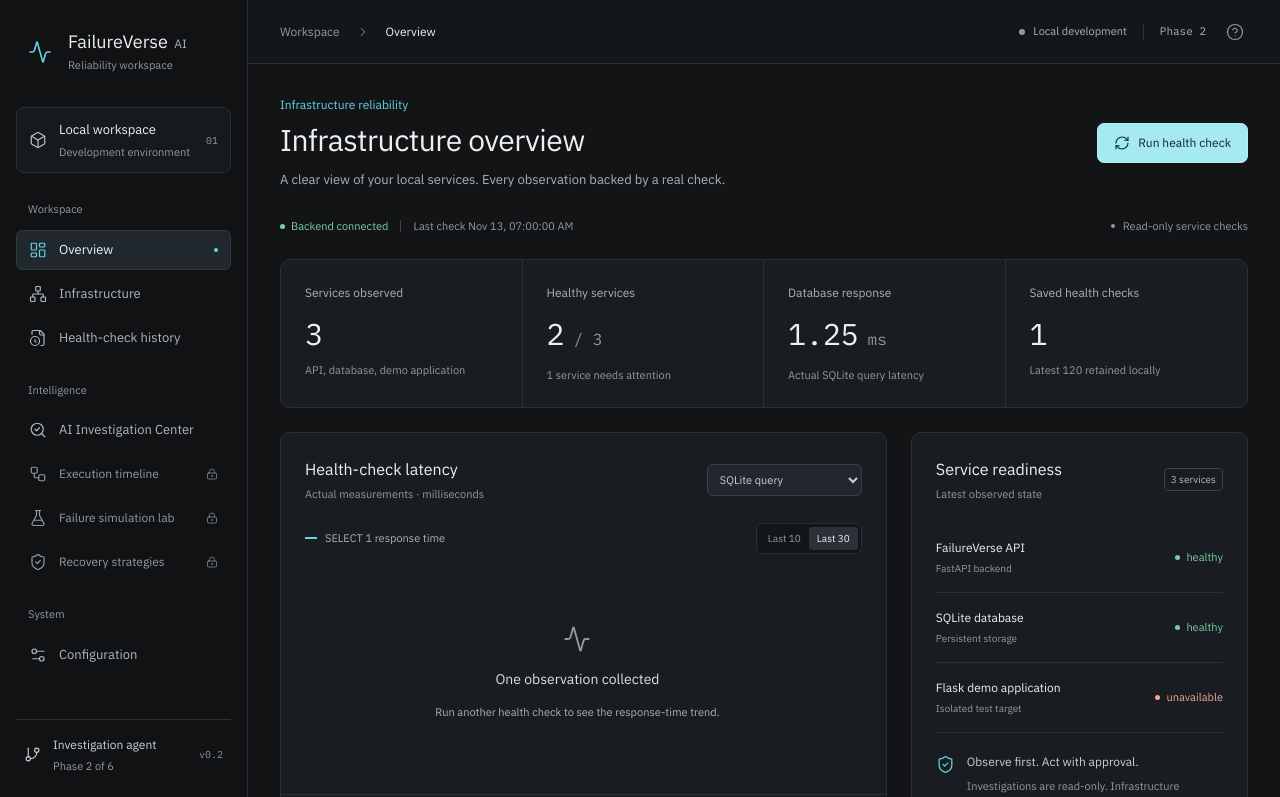
connected workspace › expands persisted observations and filters history
Expected: the text "Backend connected" is shown, [280,218,388,234]
Click the button "Health-check history". click: click(124, 338)
box: [16,318,231,358]
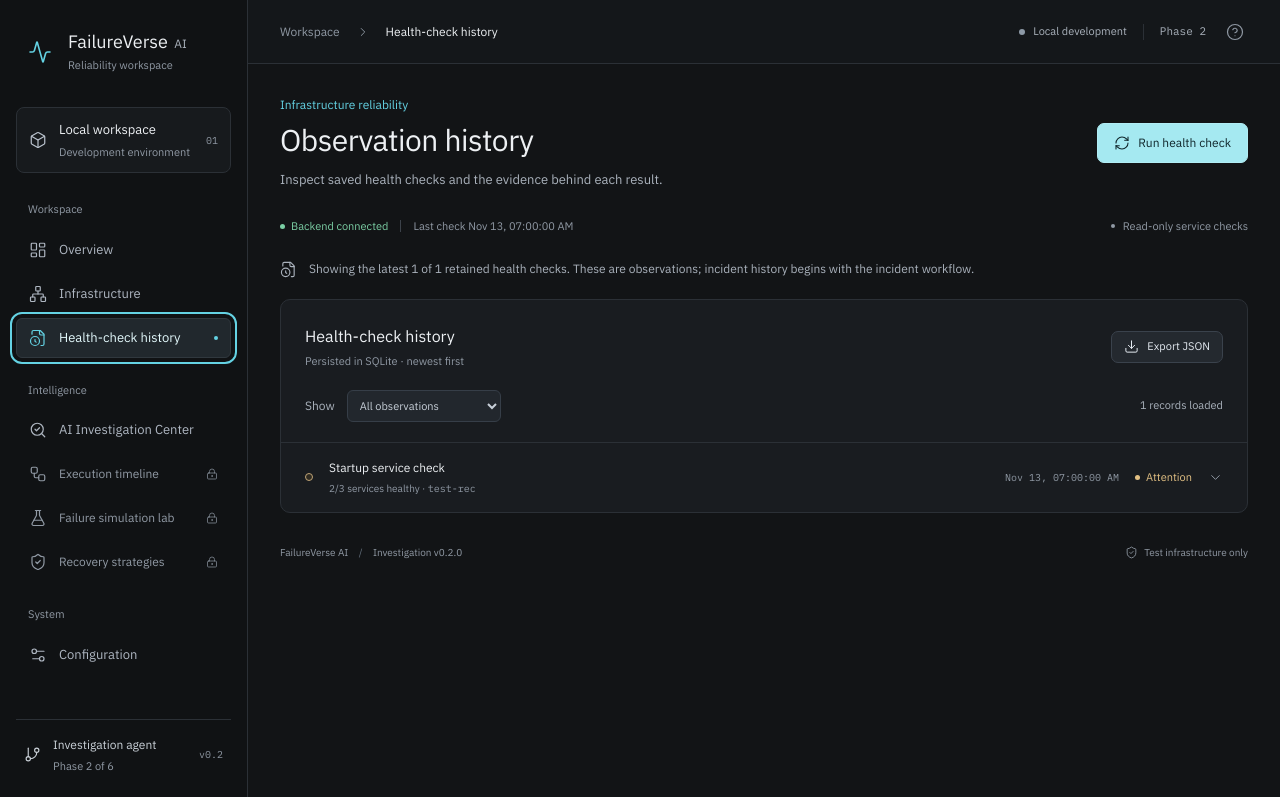
Click the button "Startup service check". click: click(387, 467)
box: [281,442,1247,512]
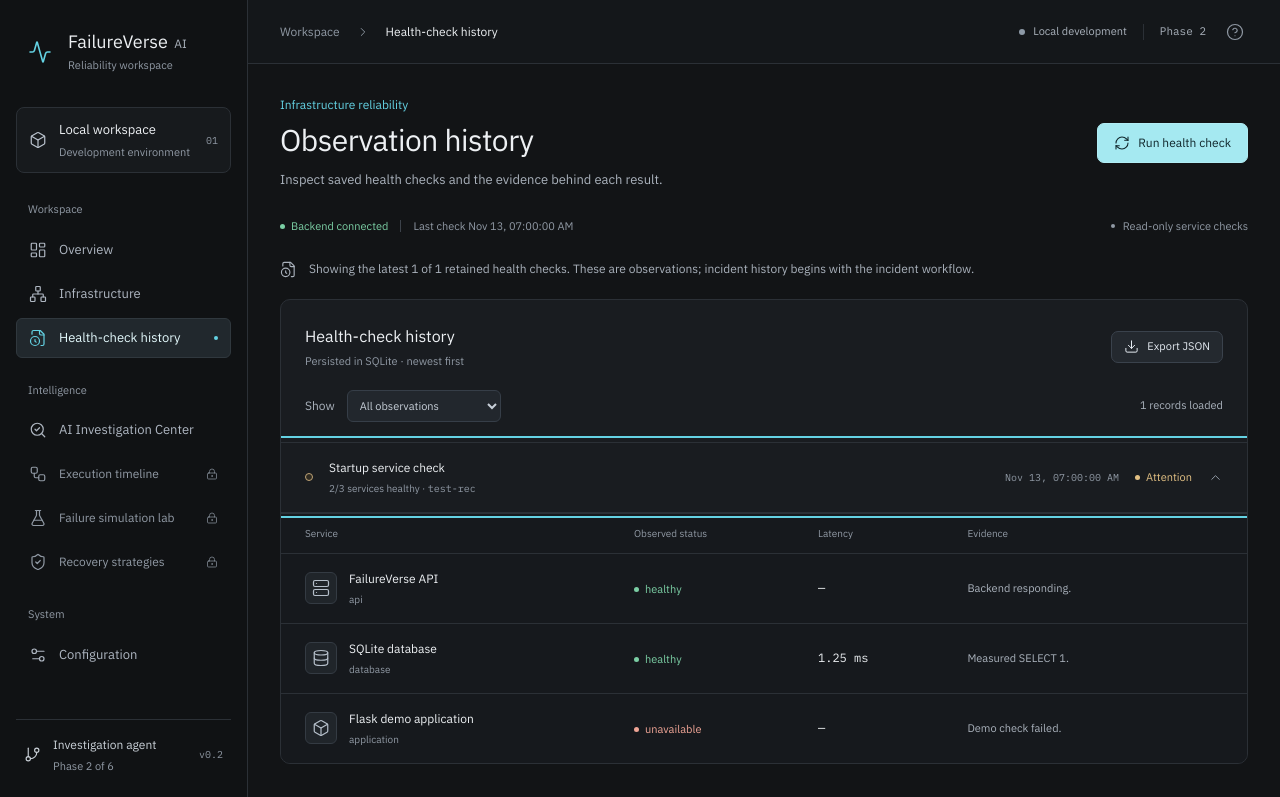
Now the text "Demo check failed." is shown, box [943,693,1247,762]
Select "All services healthy" in the dropdown labelled "Show". click: (424, 406)
box: [347,390,501,422]
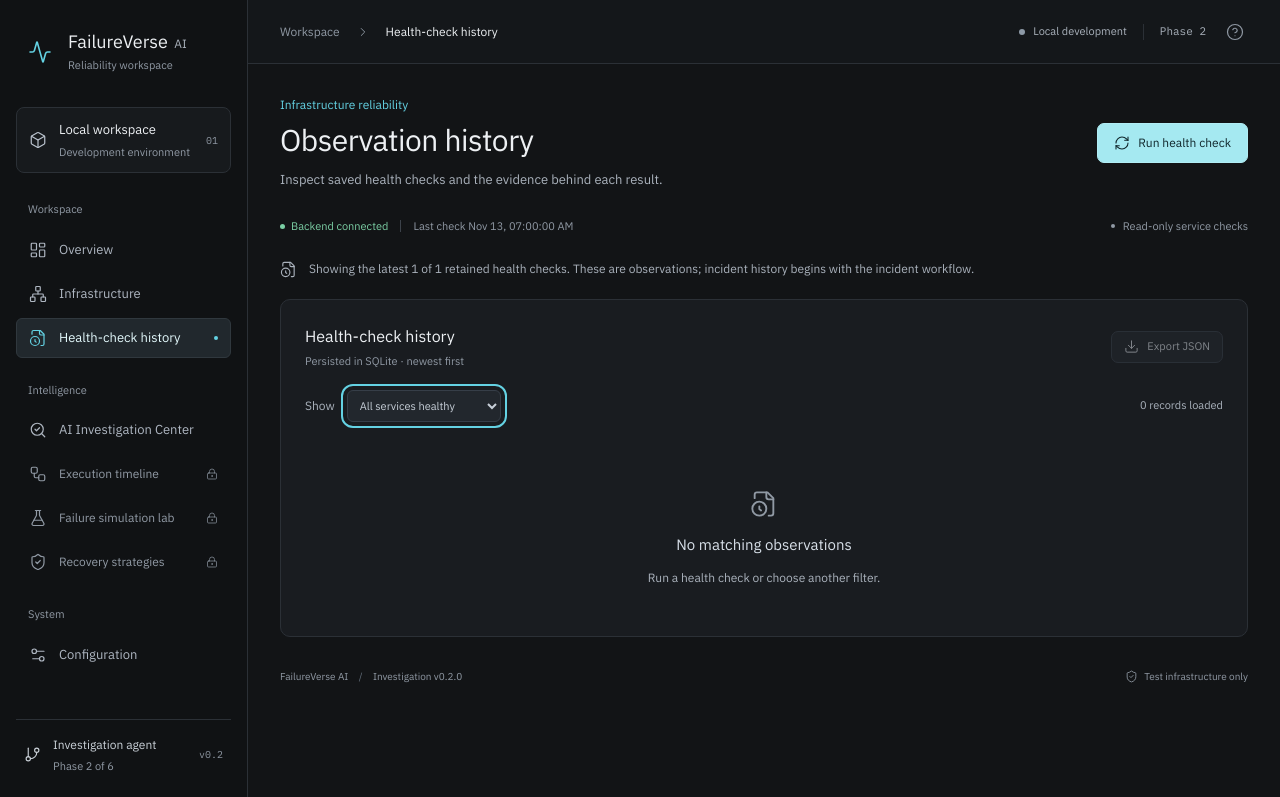
Now the heading "No matching observations" is shown, box [676,534,852,556]
Now the button "Export JSON" is disabled, box [1111,330,1223,362]
